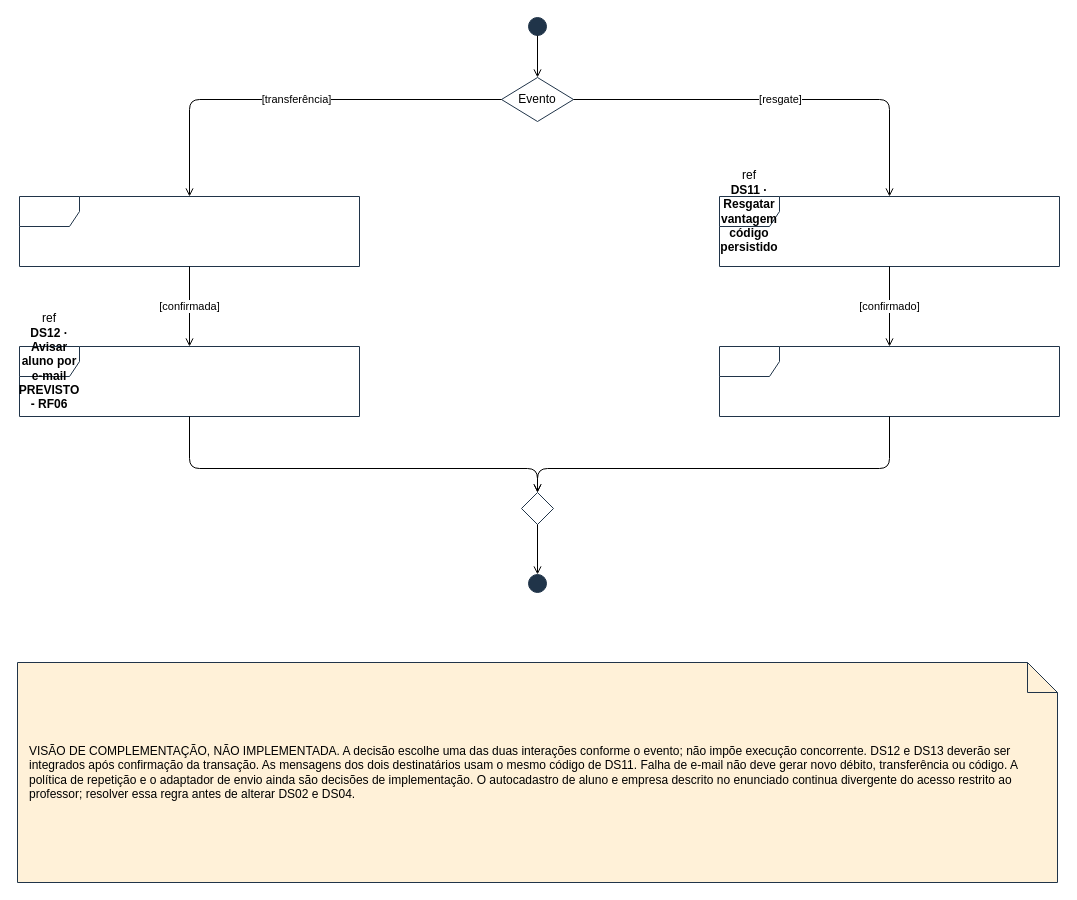
The diagram is 1077 pixels wide and 900 high, and some of its shapes have lost their labels. Here are the shapes that lost their labels. From the top down, the centre of each, then its label:
At (x=189, y=231): "ref DS07 · Transferir moedas transação confirmada".
At (x=889, y=381): "ref DS13 · Cupom ao aluno e empresa PREVISTO - RF14, RF15".
